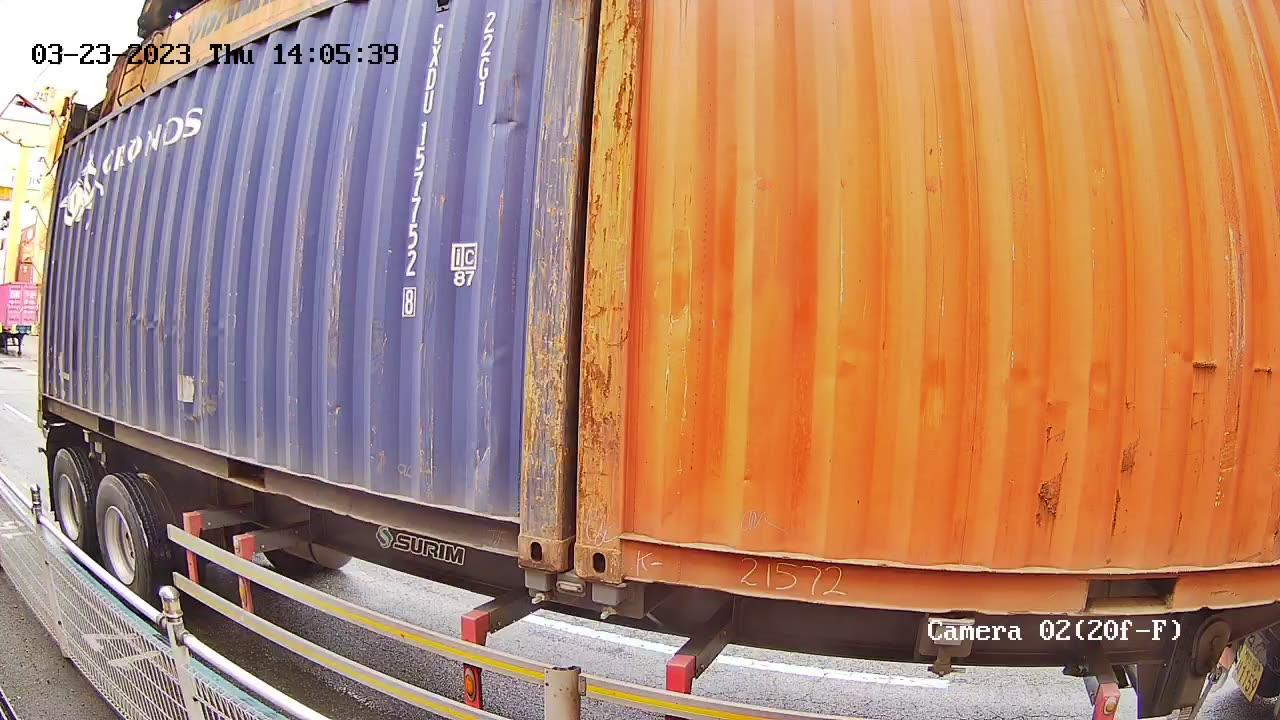Cone: (588, 580, 624, 618), (523, 565, 555, 606)
Hole_L: (575, 504, 660, 586)
Hole_R: (488, 490, 560, 572)
Tire: (96, 476, 158, 607), (51, 450, 91, 561)
